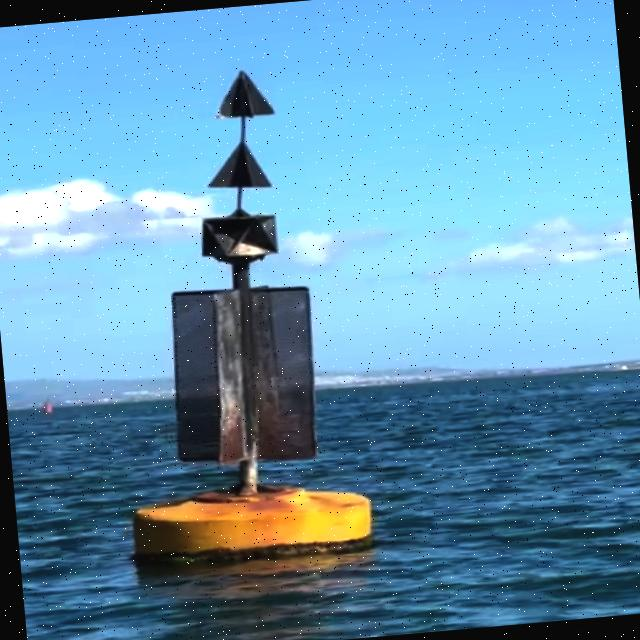marque: (100, 62, 383, 567)
